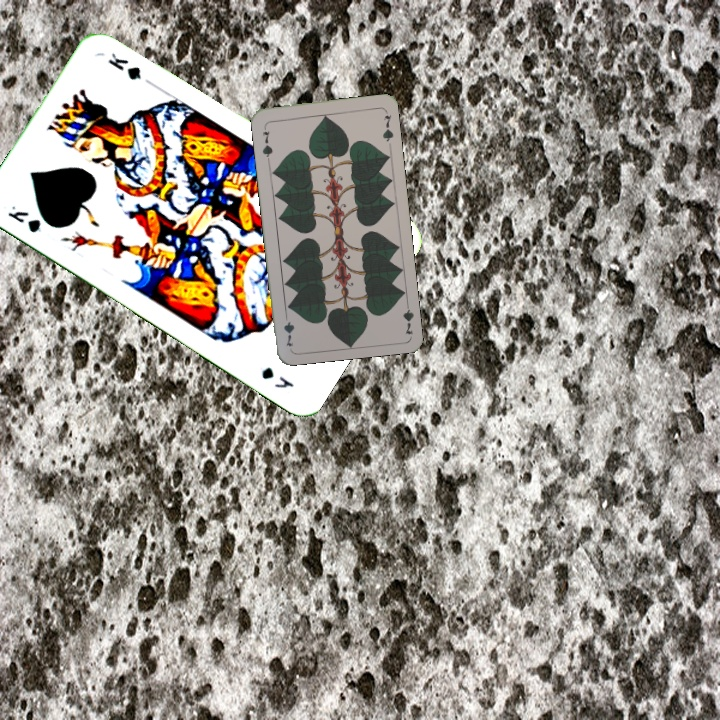G7: (399, 296, 416, 337), (258, 127, 275, 162)
GK: (3, 201, 44, 236)
